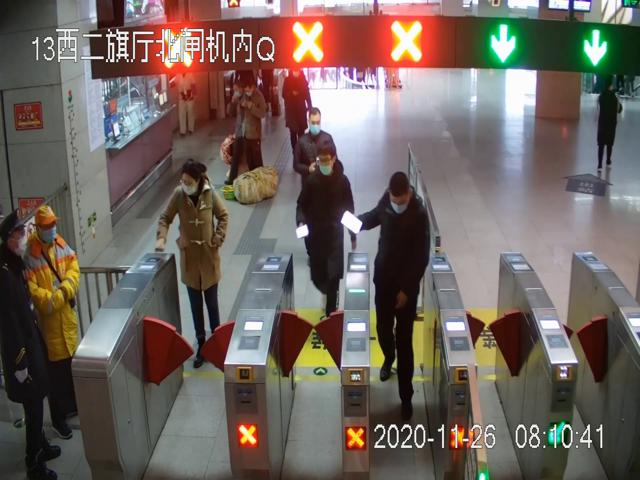person: (361, 170, 431, 422), (154, 160, 229, 376), (21, 208, 83, 440), (293, 139, 356, 328), (239, 81, 268, 170)
